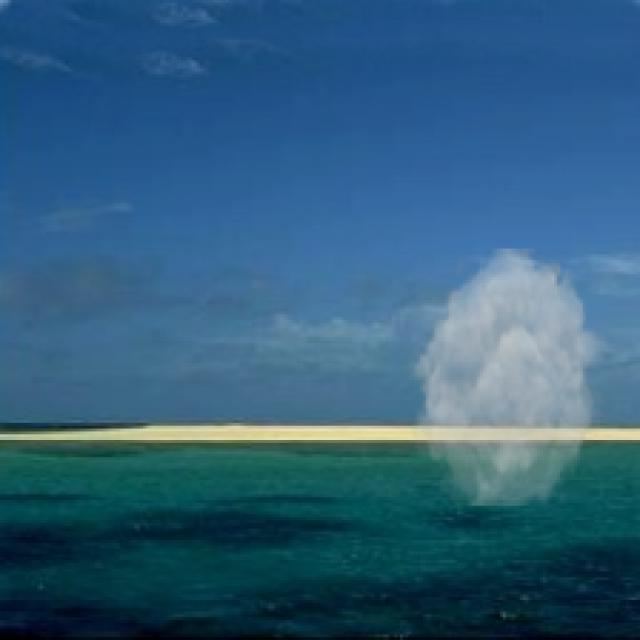smoke: (406, 248, 608, 506)
